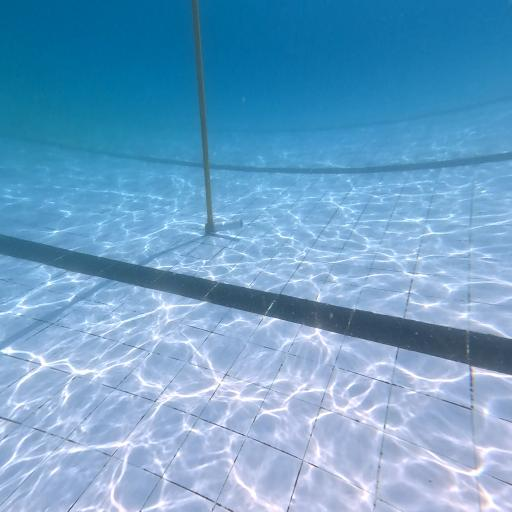pole_gate: (191, 0, 213, 232)
